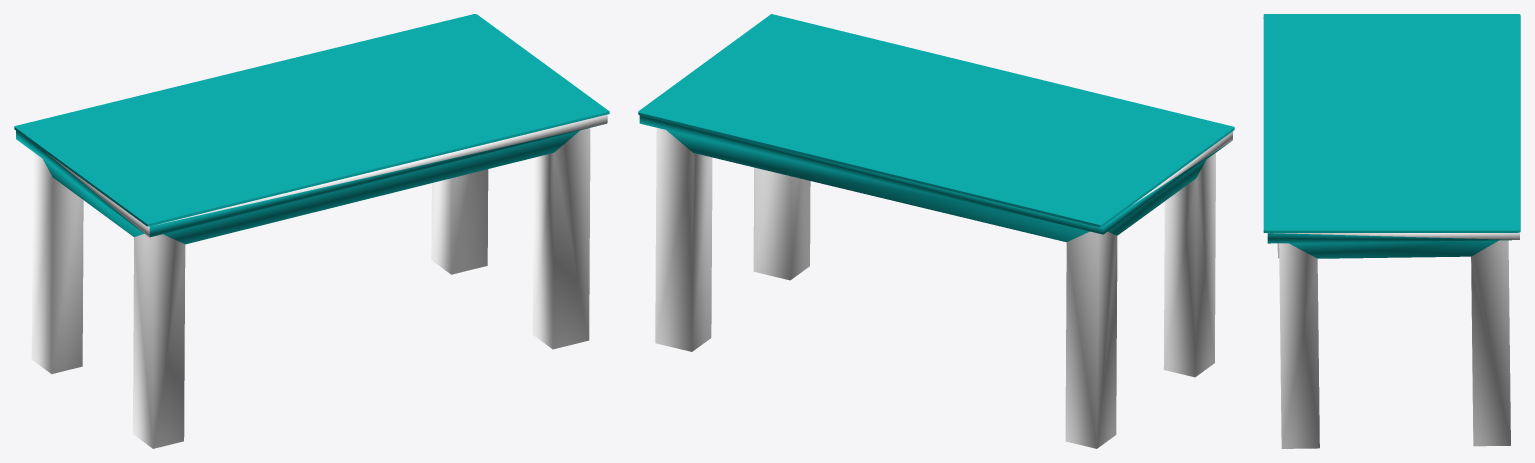
The model's file is physicsTables_Nov19.glb.
3 renders of one model, left to right at view 1: azimuth 30°, elevation 25°; view 2: azimuth 150°, elevation 25°; view 3: azimuth 270°, elevation 25°, orthographic. The views are drawn at different scales.
Parts seen in each view (by area): view 1: physicsTable; view 2: physicsTable; view 3: physicsTable.
Part boxes in pixels (x1=…): physicsTable: x1=14, y1=14, x2=609, y2=448; physicsTable: x1=638, y1=14, x2=1234, y2=448; physicsTable: x1=1263, y1=14, x2=1520, y2=448.
Bounding box in the file's own units: 1.52 × 0.732 × 0.762.
